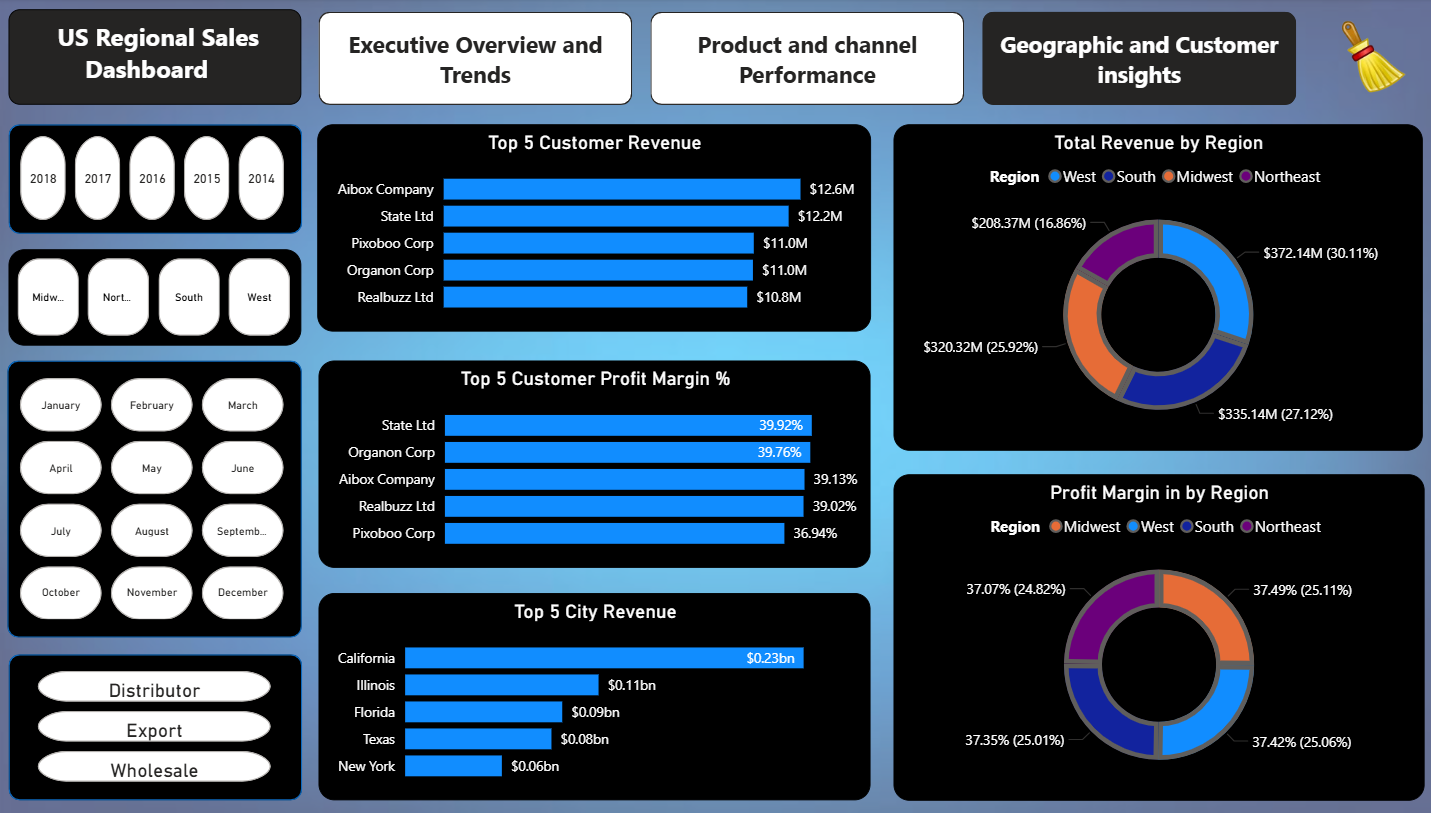

Layout of this report page (visuals, bound fields, positions):
{"tool":"powerbi","page":{"name":"Geographic and Customer insights","canvas":[1280,720],"ordinal":2},"visuals":[{"type":"textbox","box":[11,9.6,258,83.7],"z":0},{"type":"pageNavigator","box":[283.3,11.9,861.9,82.1],"z":1000},{"type":"shape","box":[10.7,110.7,258.3,96.4],"z":2000},{"type":"advancedSlicerVisual","fields":{"Values":["Sales_data.order_date.Variation.Date Hierarchy.Year"]},"box":[16.7,116.7,244,84.5],"z":3000},{"type":"shape","box":[10.3,319.4,259.1,243.7],"z":4000},{"type":"advancedSlicerVisual","fields":{"Values":["Sales_data.order_date.Variation.Date Hierarchy.Month"]},"box":[15.4,328.4,246.3,225.8],"z":5000},{"type":"shape","box":[10.7,577.4,258.3,128.6],"z":6000},{"type":"advancedSlicerVisual","fields":{"Values":["Sales_data.channel"]},"box":[32.1,587.5,215.5,109],"z":7000},{"type":"advancedSlicerVisual","fields":{"Values":["Sales_data.us_region"]},"box":[11.5,220.6,257.8,84.7],"z":8000},{"type":"barChart","title":"Top 5 Customer Revenue","fields":{"Category":["Sales_data.customer_name"],"Y":["Sum(Sales_data.revenue)"]},"box":[282.1,111.3,487.1,182.2],"z":9000},{"type":"barChart","title":"Top 5 City Revenue","fields":{"Y":["Sum(Sales_data.revenue)"],"Category":["Sales_data.state_name"]},"box":[284,523.6,485.9,182.2],"z":10000},{"type":"barChart","title":"Top 5 Customer Profit Margin %","fields":{"Category":["Sales_data.customer_name"],"Y":["Sales_data.Profit_Margin_in_%"]},"box":[284,318.4,485.9,182.2],"z":11000},{"type":"donutChart","title":"Total Revenue by Region","fields":{"Category":["Sales_data.us_region"],"Y":["Sum(Sales_data.revenue)"]},"box":[789.4,111.3,465.5,287.2],"z":12000},{"type":"donutChart","title":"Profit Margin in by Region","fields":{"Y":["Sales_data.Profit_Margin_in_%"],"Category":["Sales_data.us_region"]},"box":[789.4,418.7,466.8,287.2],"z":13000},{"type":"image","box":[1176.2,11.9,78.6,85.7],"z":13001}]}

Visuals, with their boxes in screenshot pixels (x1, y1, x2, y2), scaled from the page's 1280x720 canvas onto the 1431x813 screenshot:
textbox: 12, 11, 301, 105
pageNavigator: 317, 13, 1280, 106
shape: 12, 125, 301, 234
advancedSlicerVisual - Sales_data.order_date.Variation.Date Hierarchy.Year: 19, 132, 291, 227
shape: 12, 361, 301, 636
advancedSlicerVisual - Sales_data.order_date.Variation.Date Hierarchy.Month: 17, 371, 293, 626
shape: 12, 652, 301, 797
advancedSlicerVisual - Sales_data.channel: 36, 663, 277, 786
advancedSlicerVisual - Sales_data.us_region: 13, 249, 301, 345
"Top 5 Customer Revenue" barChart: 315, 126, 860, 331
"Top 5 City Revenue" barChart: 318, 591, 861, 797
"Top 5 Customer Profit Margin %" barChart: 318, 360, 861, 565
"Total Revenue by Region" donutChart: 883, 126, 1403, 450
"Profit Margin in by Region" donutChart: 883, 473, 1404, 797
image: 1315, 13, 1403, 110
